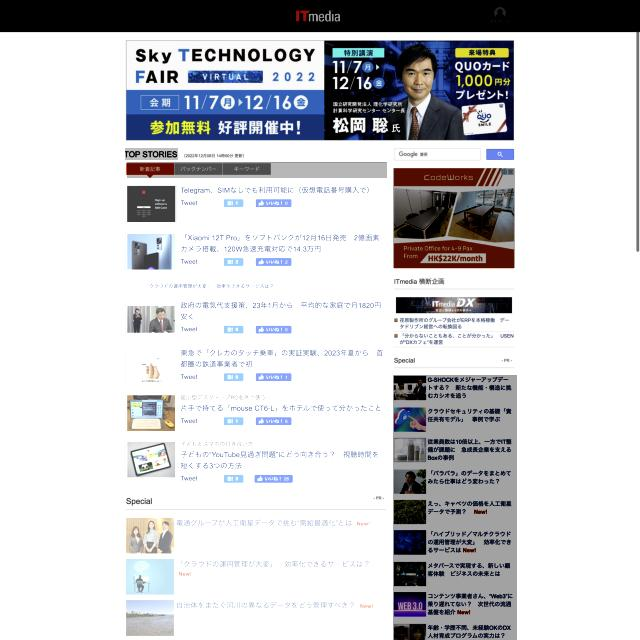ImageView: (125, 40, 514, 141), (393, 168, 515, 268)
QR code: (393, 375, 517, 640)
TextView: (126, 184, 386, 486), (124, 515, 380, 637)
bag: (2, 0, 636, 32)
breadcrumbs: (126, 148, 180, 160)
copy: (126, 232, 176, 271), (126, 300, 176, 338), (127, 348, 176, 386), (127, 185, 177, 222), (128, 394, 176, 432)
date picker: (293, 8, 348, 25)
decoration: (492, 5, 514, 26), (130, 8, 149, 26)
icon: (127, 162, 387, 178)
